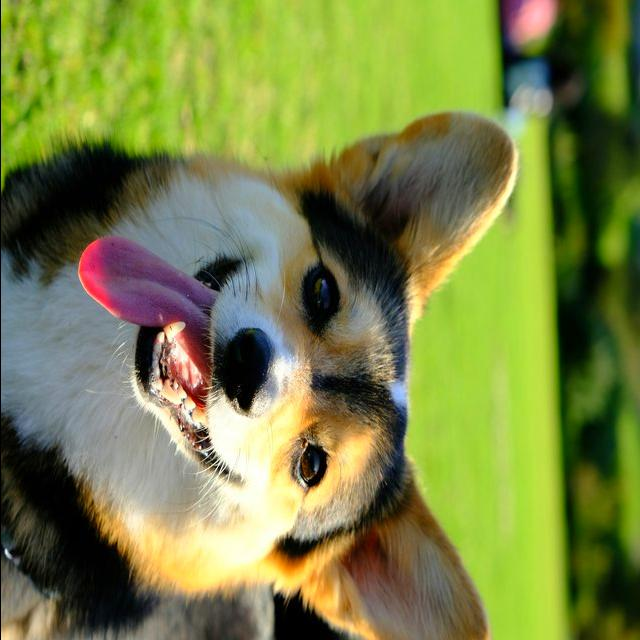corgi: (1, 111, 520, 640)
